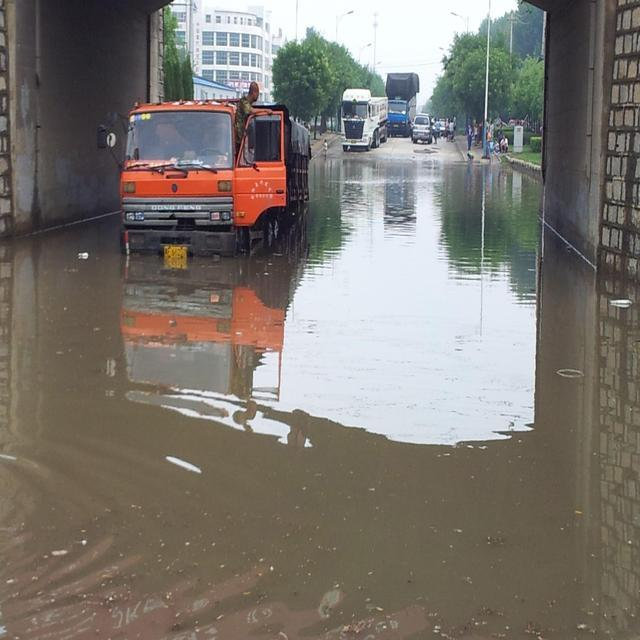Car-RiskLevel1: (335, 84, 391, 154), (374, 68, 419, 143), (402, 111, 437, 149)
Car-RiskLevel3: (94, 78, 314, 265)
